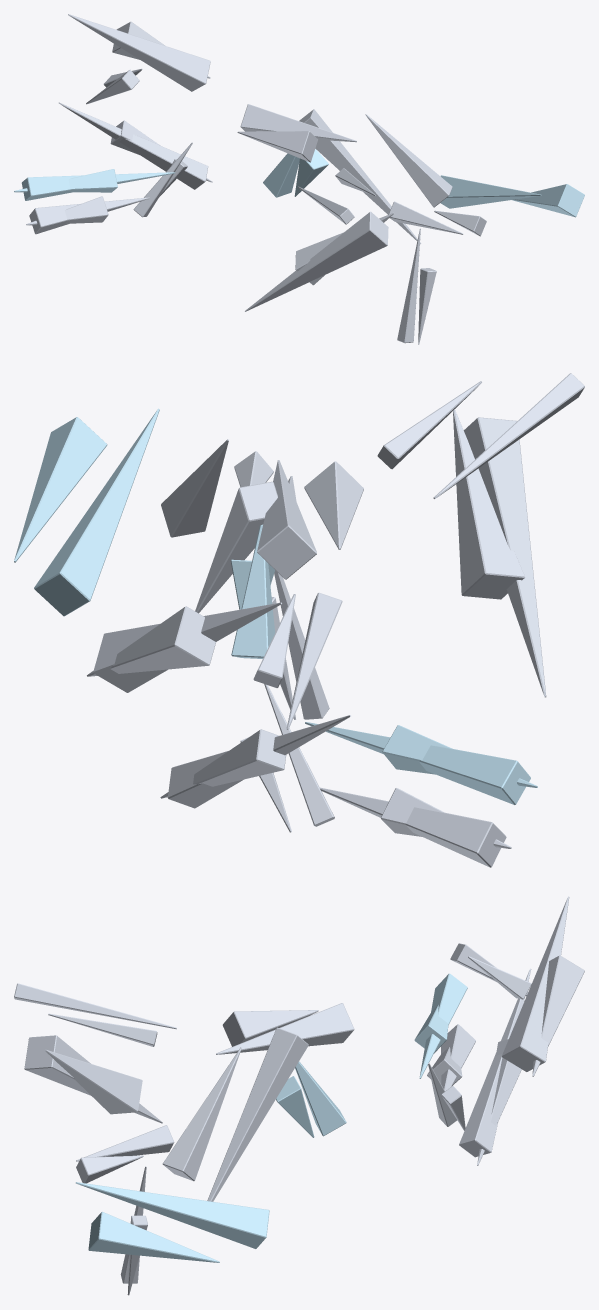
File: SM_GlassShardField.fbx
3 views of the same model, one above another, from view 1: azimuth 30°, elevation 25°; view 2: azimuth 150°, elevation 25°; view 3: azimuth 270°, elevation 25° (orthographic). The views are drawn at different scales.
Visible parts, largest first — view 1: SM_GlassShardField; view 2: SM_GlassShardField; view 3: SM_GlassShardField.
Part boxes in pixels (x1=…): SM_GlassShardField: x1=14, y1=14, x2=584, y2=344; SM_GlassShardField: x1=14, y1=373, x2=584, y2=867; SM_GlassShardField: x1=14, y1=896, x2=584, y2=1295.
Size of the model in its own units: 374 by 202 by 352.
